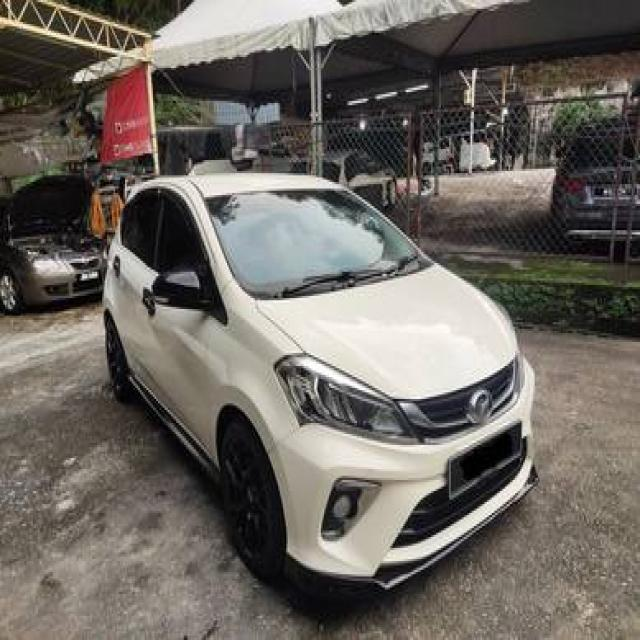PeroduaMyvi: (100, 164, 540, 605)
